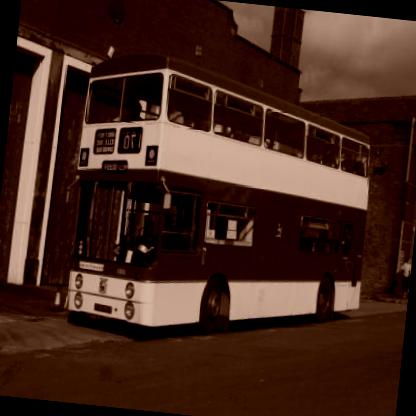bus: (53, 46, 383, 352)
